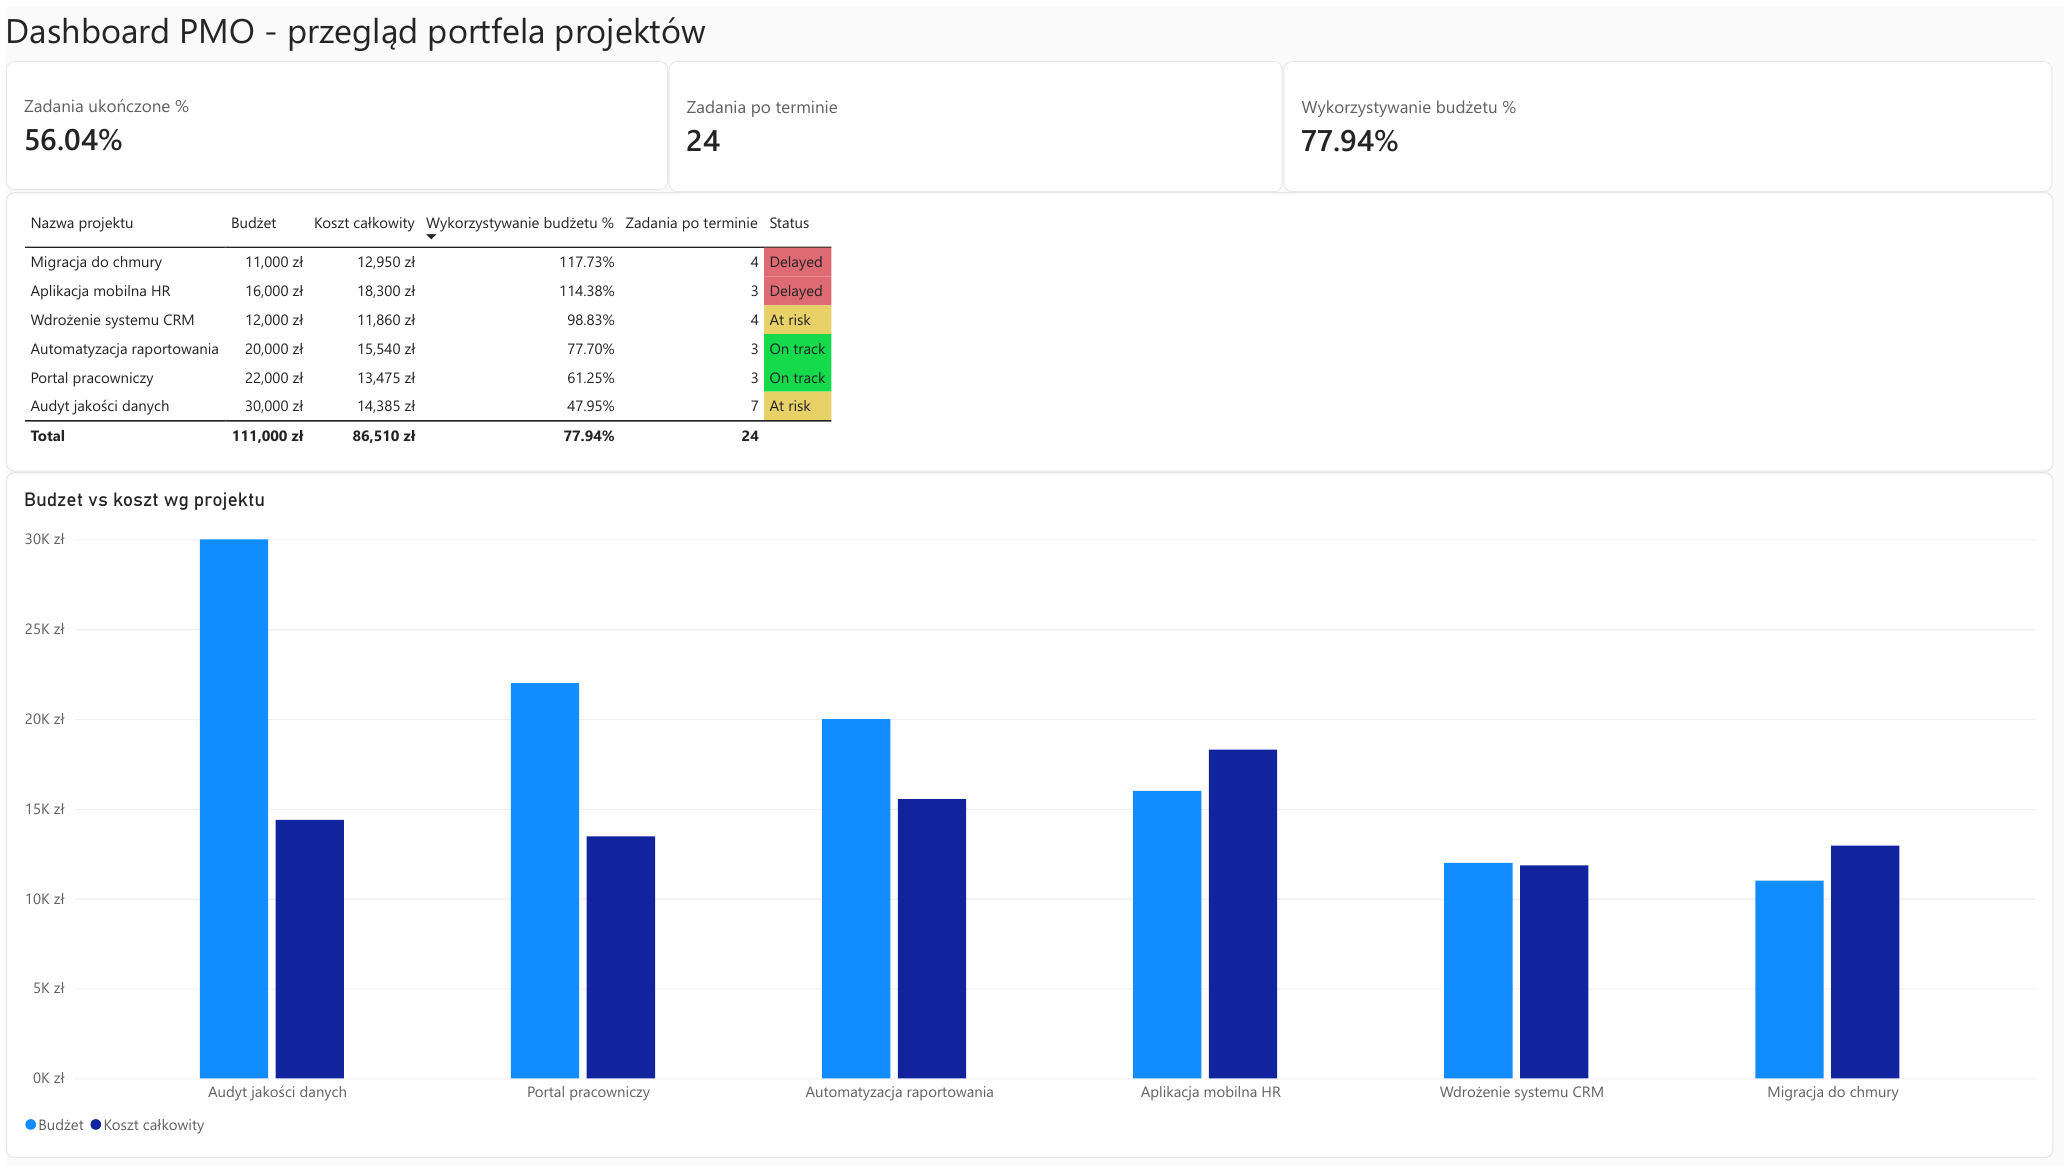

Layout of this report page (visuals, bound fields, positions):
{"tool":"powerbi","page":{"name":"Portfel projektow","canvas":[1920,1080],"ordinal":0},"visuals":[{"type":"tableEx","fields":{"Values":["Projekty.Nazwa projektu","Czas pracy.Budżet","Czas pracy.Koszt całkowity","Czas pracy.Wykorzystywanie budżetu %","Czas pracy.Zadania po terminie","Projekty.Status"]},"box":[0,175,1920,261.7],"z":0},{"type":"cardVisual","fields":{"Data":["Czas pracy.Zadania ukończone %"]},"box":[0,51.7,621.7,121.7],"z":1000},{"type":"cardVisual","fields":{"Data":["Czas pracy.Zadania po terminie"]},"box":[621.7,51.7,576.7,123.3],"z":2000},{"type":"cardVisual","fields":{"Data":["Czas pracy.Wykorzystywanie budżetu %"]},"box":[1198.3,51.7,721.7,123.3],"z":3000},{"type":"clusteredColumnChart","title":"Budzet vs koszt wg projektu","fields":{"Category":["Projekty.Nazwa projektu"],"Y":["Czas pracy.Budżet","Czas pracy.Koszt całkowity"]},"box":[0,436.7,1920,643.3],"z":4000},{"type":"textbox","box":[0,0,983.3,51.7],"z":5000}]}

Visuals, with their boxes in screenshot pixels (x1, y1, x2, y2), scaled from the page's 1920x1080 canvas onto the 2064x1166 screenshot:
tableEx - Projekty.Nazwa projektu x Czas pracy.Budżet: (0, 189, 2063, 471)
cardVisual - Czas pracy.Zadania ukończone %: (0, 56, 668, 187)
cardVisual - Czas pracy.Zadania po terminie: (668, 56, 1288, 189)
cardVisual - Czas pracy.Wykorzystywanie budżetu %: (1288, 56, 2063, 189)
"Budzet vs koszt wg projektu" clusteredColumnChart: (0, 471, 2063, 1165)
textbox: (0, 0, 1057, 56)
